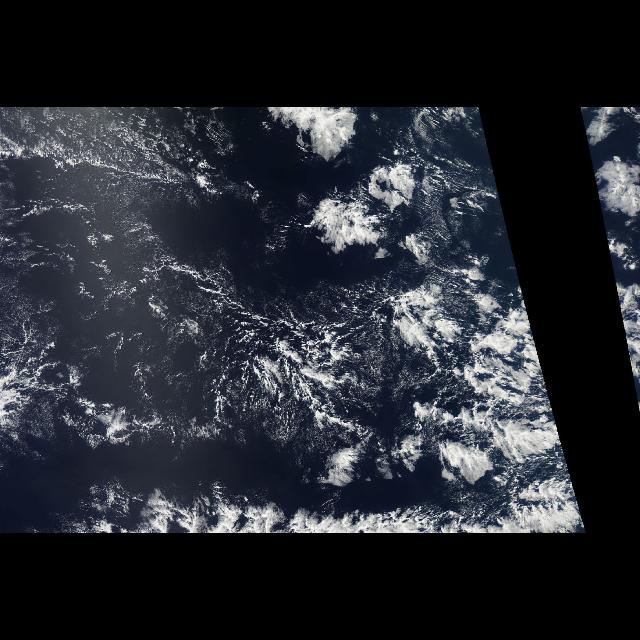Fish: (55, 468, 588, 534)
Sugar: (0, 107, 292, 453)
